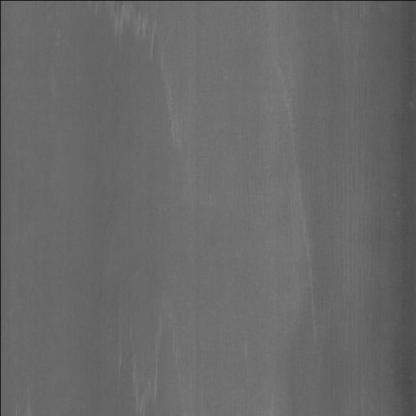silk_spot: (103, 0, 184, 152)
